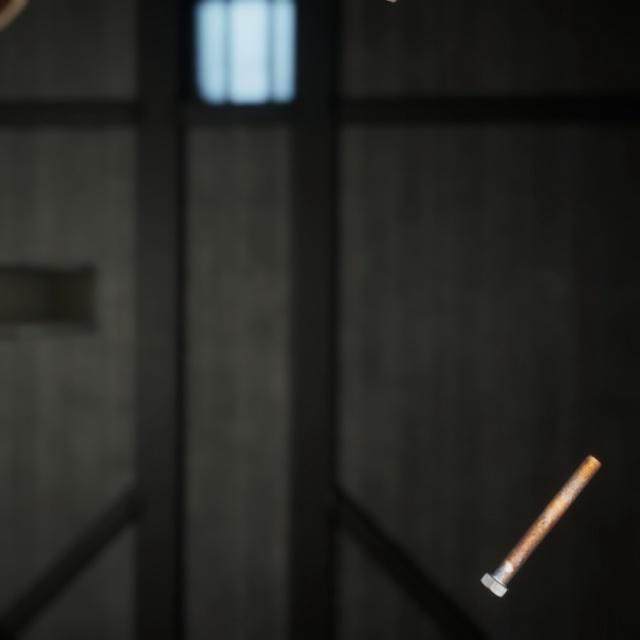bolt: (476, 428, 606, 580)
